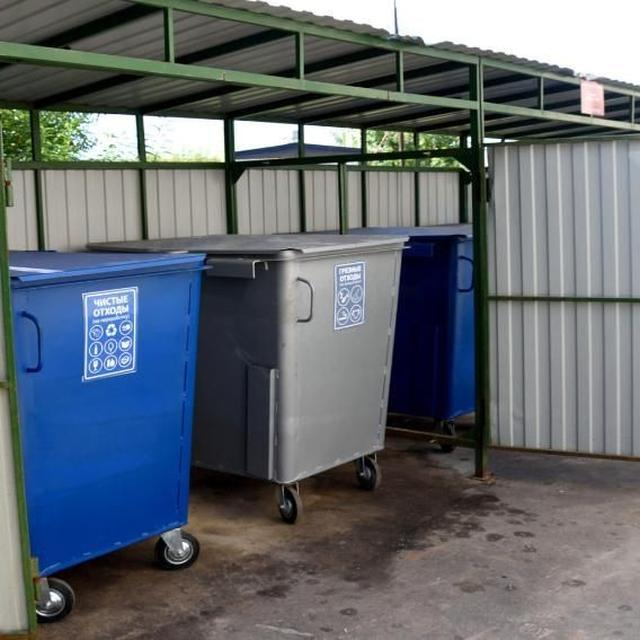Trash_Can_Closed: (87, 232, 409, 483), (9, 249, 213, 580), (344, 225, 474, 418)
